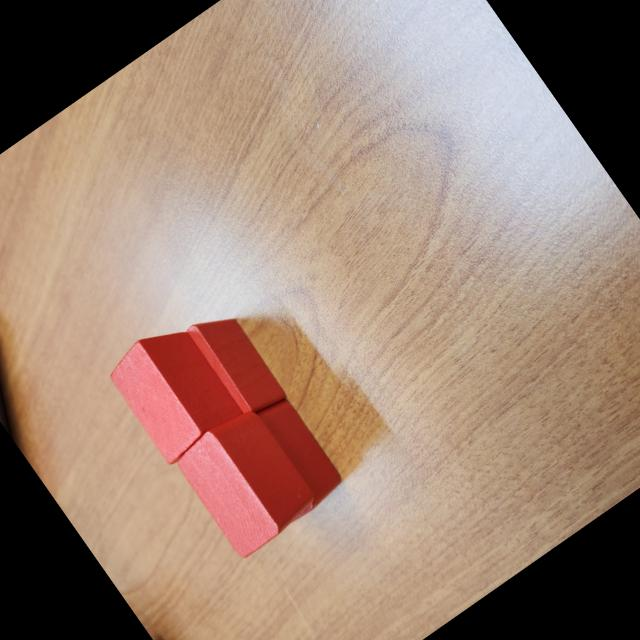red: (166, 400, 322, 562), (99, 314, 246, 468), (224, 392, 348, 526), (184, 300, 291, 424)
